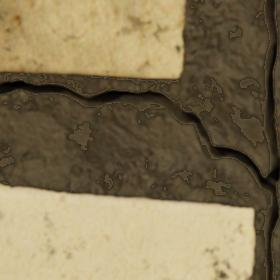brick: (0, 184, 254, 279), (0, 0, 185, 78)
crack: (0, 0, 279, 279)
